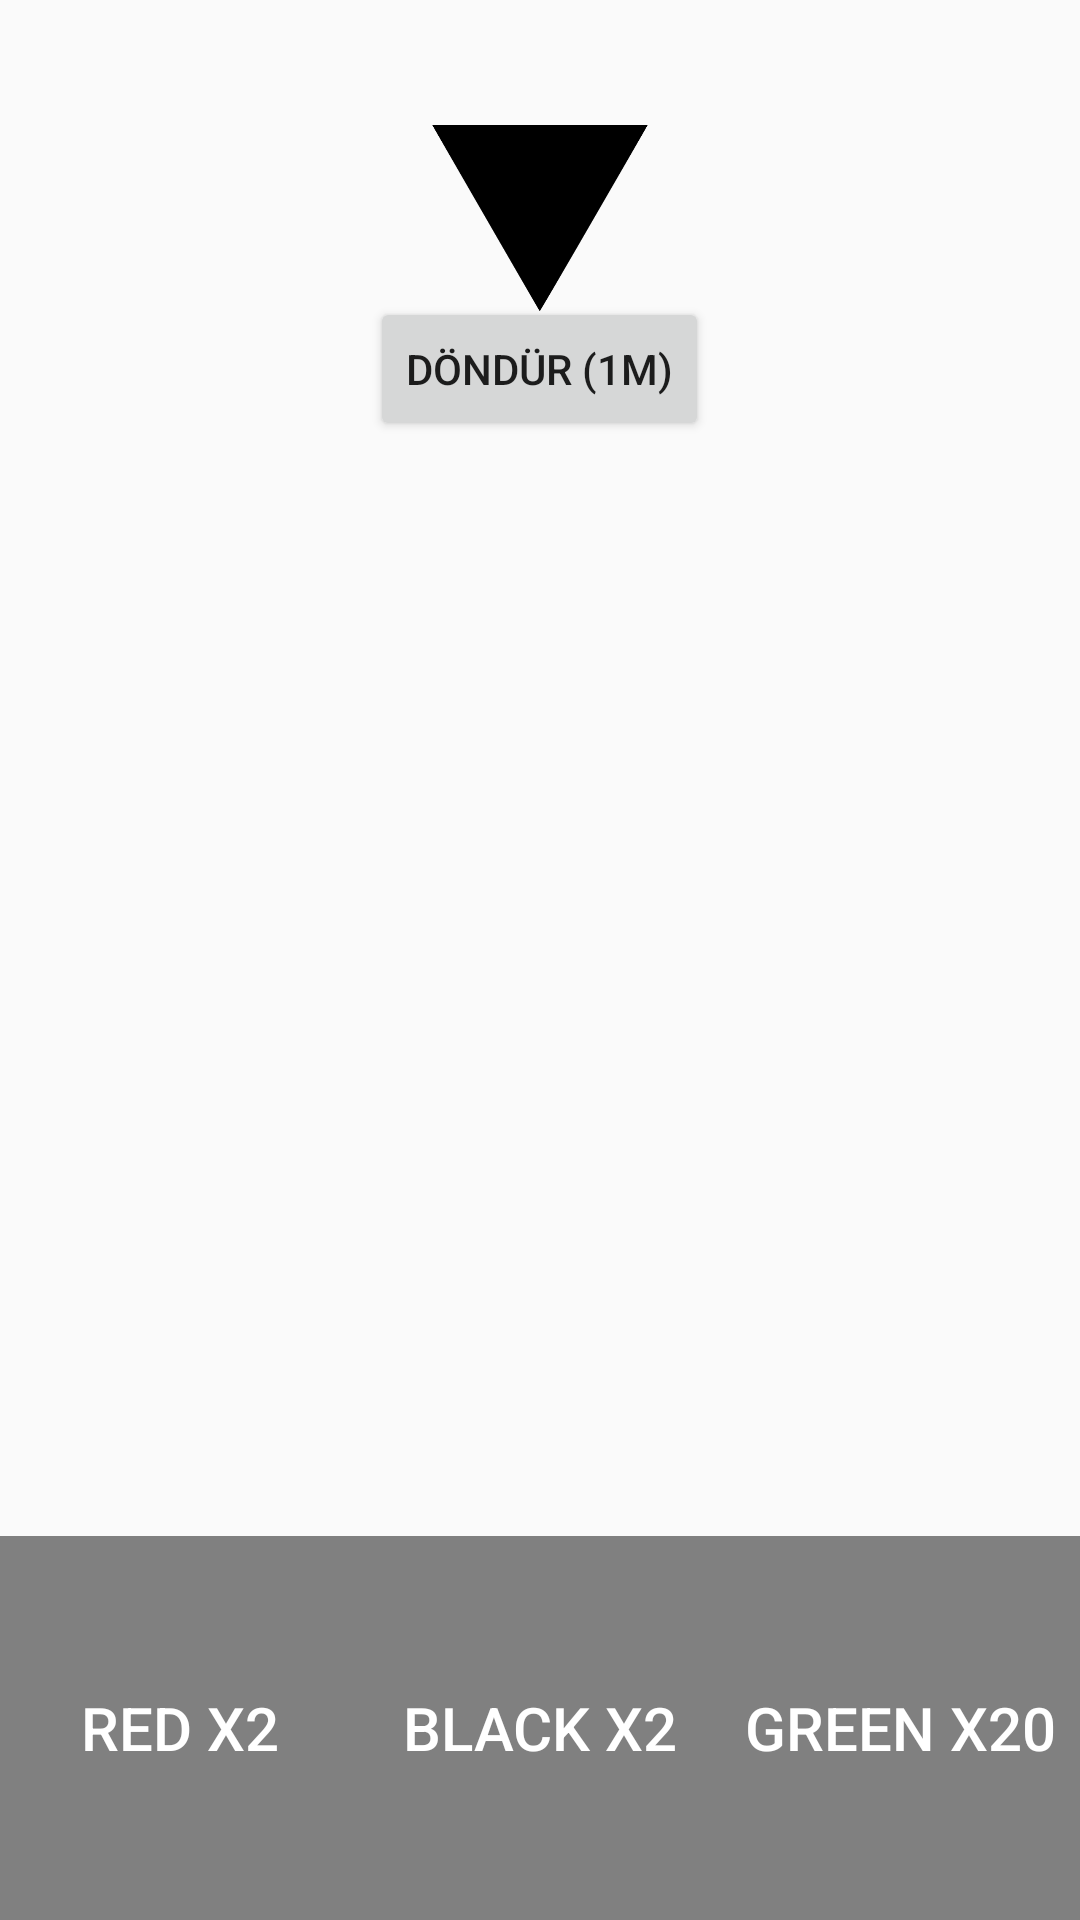

Icons on this 1080px×1920px Android screen, each with the point to tap as point (x, y):
triangle: point (540, 218)
